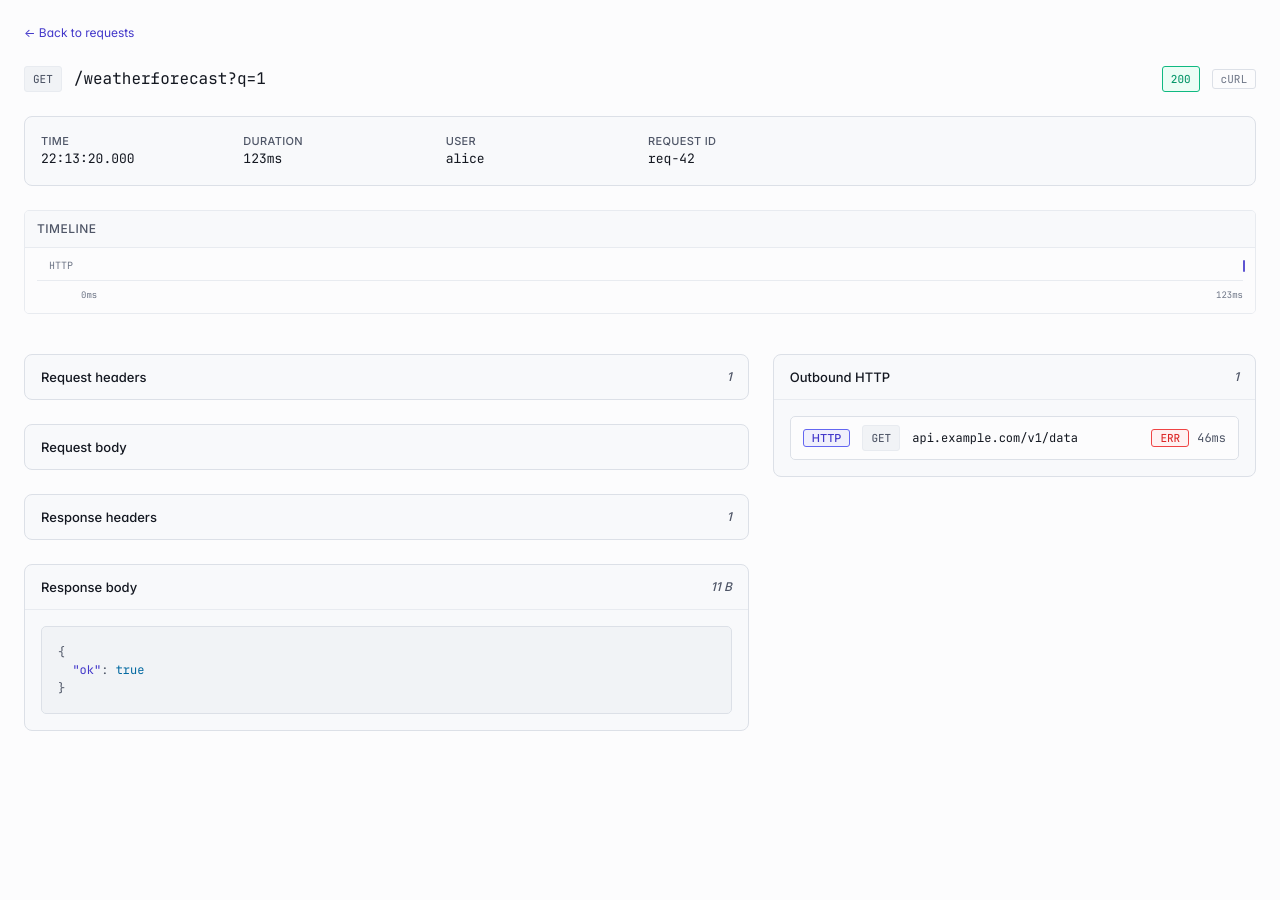
Scenario: RequestDetail — Outbound HTTP section › shows error details in expanded row
Click the button "HTTP GET api.example.com/v1/data ERR 46ms".
click(1014, 438)  # box x1=791 y1=417 x2=1238 y2=459
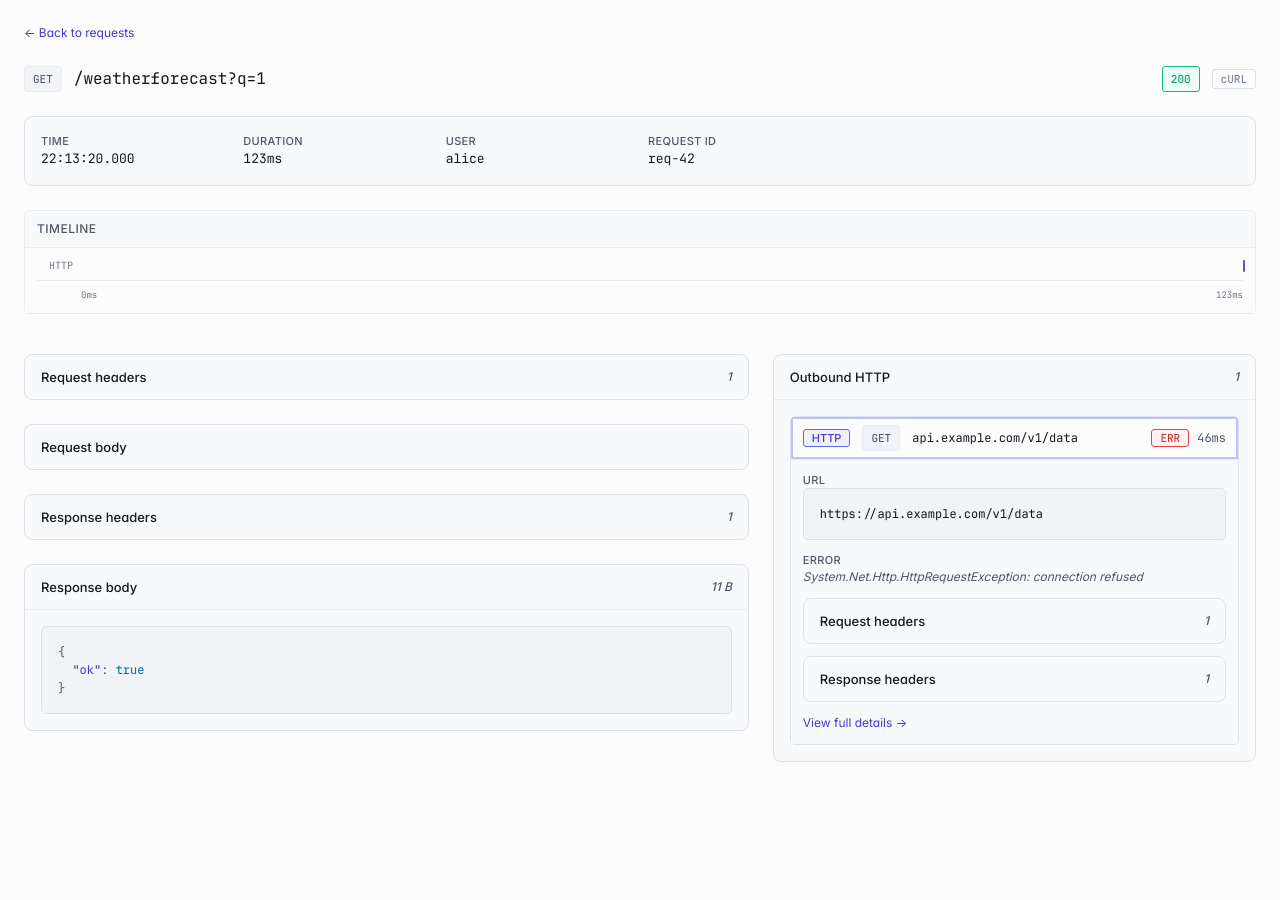
Now the element with test id "http-out-row-body" shows "connection refused", box x1=1033 y1=569 x2=1143 y2=584
